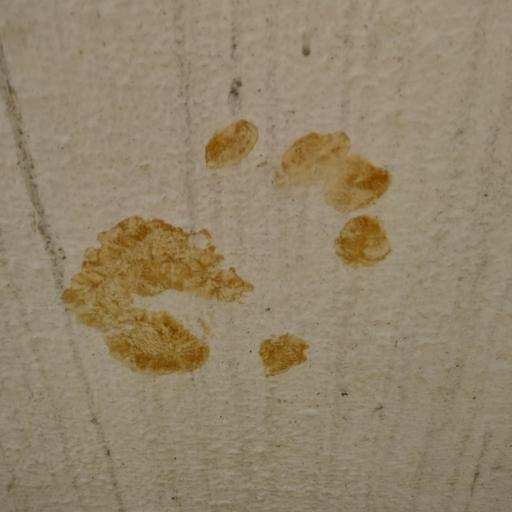stain: (37, 204, 321, 397), (204, 107, 424, 276)
